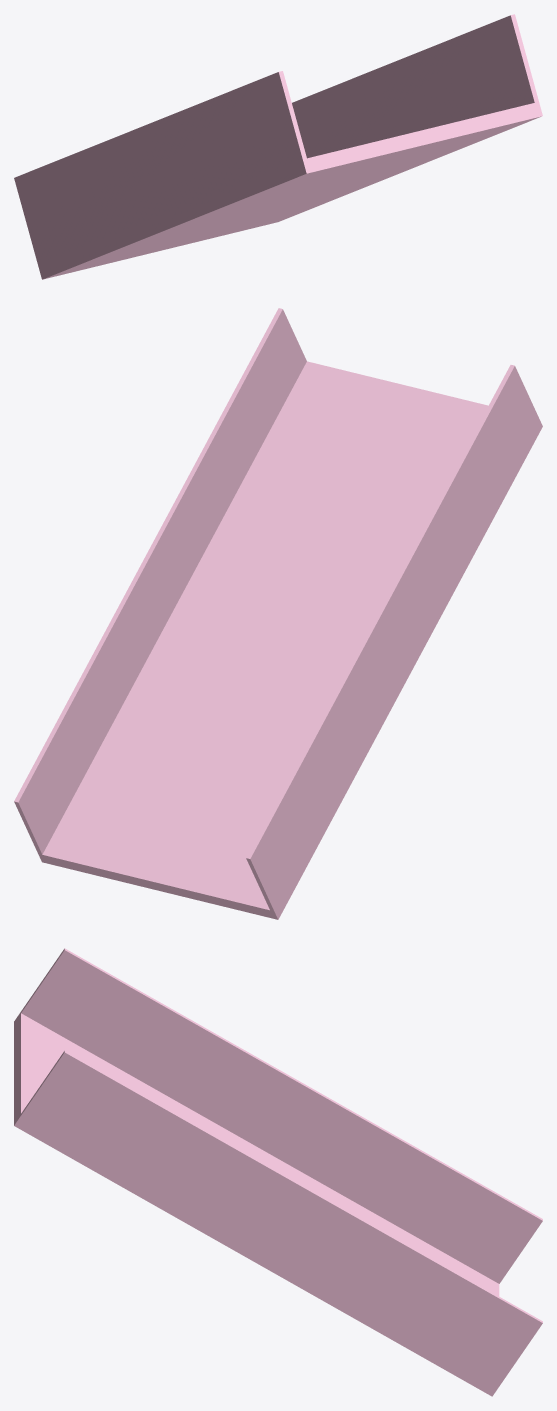
Rendered from climb-skin-4.glb.
3 renders of one model, top to bottom at view 1: azimuth 30°, elevation 25°; view 2: azimuth 150°, elevation 25°; view 3: azimuth 270°, elevation 25°, orthographic. The views are drawn at different scales.
Visible parts, largest first — view 1: climb-skin-4; view 2: climb-skin-4; view 3: climb-skin-4.
Part boxes in pixels (x1=…): climb-skin-4: x1=14, y1=14, x2=542, y2=279; climb-skin-4: x1=14, y1=308, x2=542, y2=919; climb-skin-4: x1=14, y1=948, x2=542, y2=1396.
Bounding box in the file's own units: 3.3 × 5.09 × 7.08.
